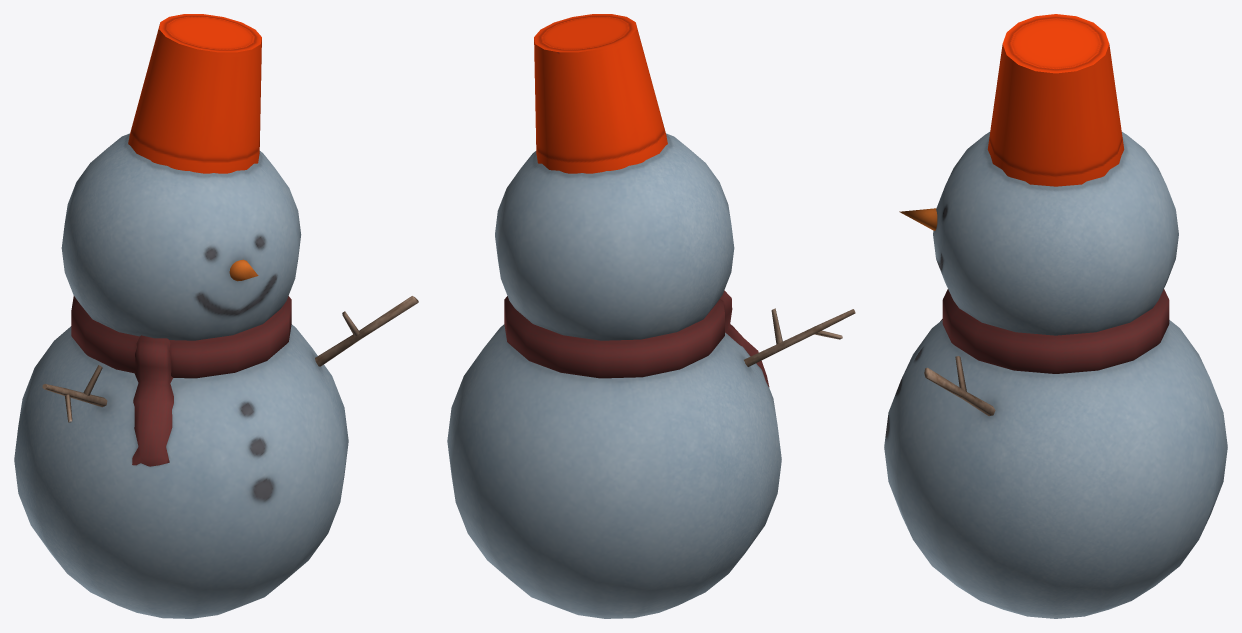
The model's file is sb_obj_outdoor049_Snowman.fbx.
The picture shows the model from 3 angles, left to right: view 1: azimuth 30°, elevation 25°; view 2: azimuth 150°, elevation 25°; view 3: azimuth 270°, elevation 25°; orthographic projection.
Parts seen in each view (by area): view 1: sb_obj_outdoor049_Snowman; view 2: sb_obj_outdoor049_Snowman; view 3: sb_obj_outdoor049_Snowman.
Part boxes in pixels (x1,y1,x2,y2): sb_obj_outdoor049_Snowman: (14,14,418,618); sb_obj_outdoor049_Snowman: (447,14,855,618); sb_obj_outdoor049_Snowman: (884,14,1227,618).
Size of the model in its own units: 0.7845 by 1.18 by 0.63.
